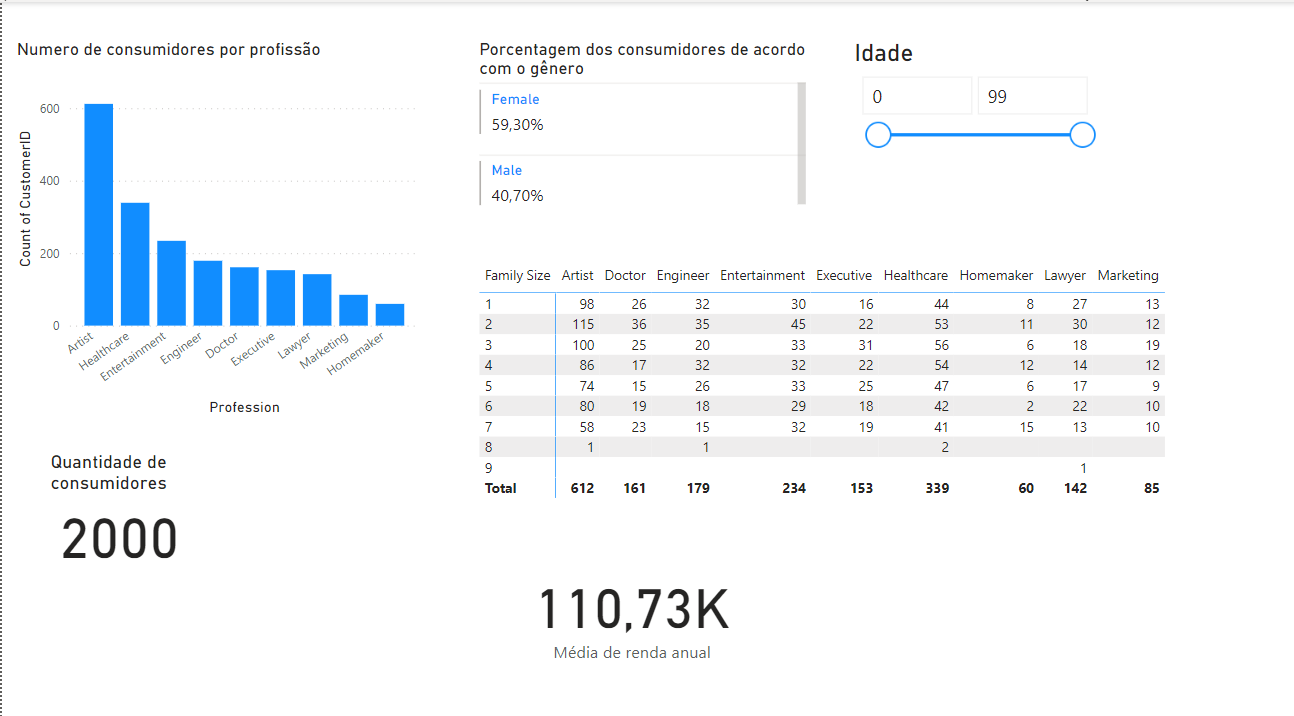

The page's visual inventory and layout, read from the dashboard file:
{"tool":"powerbi","page":{"name":"Page 1","canvas":[1280,720],"ordinal":0},"visuals":[{"type":"columnChart","title":"Numero de consumidores por profissão","fields":{"Y":["CountNonNull(customers.CustomerID)"],"Category":["customers.Profession"]},"box":[9.8,35.4,403.4,374.1],"z":0},{"type":"multiRowCard","title":"Porcentagem dos consumidores de acordo com o gênero","fields":{"Values":["Divide(Count(customers.CustomerID), ScopedEval(Count(customers.CustomerID), []))","customers.Gender"]},"box":[462.1,35.4,328.8,179.7],"z":1000},{"type":"card","title":"Quantidade de consumidores","fields":{"Values":["CountNonNull(customers.CustomerID)"]},"box":[42.8,438.8,144.2,116.1],"z":2000},{"type":"slicer","title":"Idade","fields":{"Values":["customers.Age"]},"box":[828.8,35.4,249.4,136.9],"z":2001},{"type":"pivotTable","fields":{"Values":["CountNonNull(customers.CustomerID)"],"Columns":["customers.Profession"],"Rows":["customers.Family Size"]},"box":[462.1,250.6,687,288.5],"z":2002},{"type":"card","fields":{"Values":["Avg(customers.Annual Income ($))"]},"box":[462.1,529.3,308,135.7],"z":2003}]}

Visuals, with their boxes in screenshot pixels (x1, y1, x2, y2), scaled from the page's 1280x720 canvas onto the 1294x716 screenshot:
"Numero de consumidores por profissão" columnChart: 10, 35, 418, 407
"Porcentagem dos consumidores de acordo com o gênero" multiRowCard: 467, 35, 800, 214
"Quantidade de consumidores" card: 43, 436, 189, 552
"Idade" slicer: 838, 35, 1090, 171
pivotTable - CountNonNull(customers.CustomerID) x customers.Profession: 467, 249, 1162, 536
card - Avg(customers.Annual Income ($)): 467, 526, 779, 661
